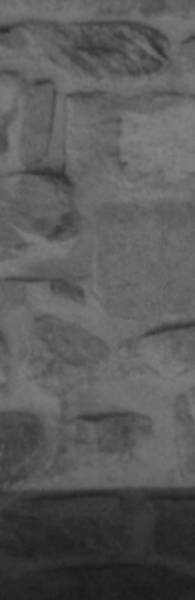water: (0, 489, 195, 600)
